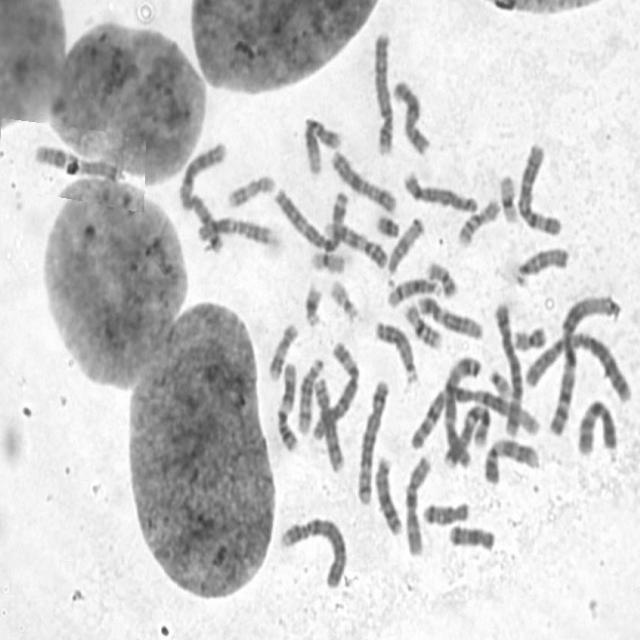A1: (548, 293, 622, 437), (409, 384, 542, 453)
A2: (524, 332, 632, 405), (179, 140, 226, 256)
A3: (273, 186, 349, 255), (441, 356, 482, 469)
B4: (280, 517, 348, 590), (374, 30, 395, 159)
B5: (356, 379, 390, 506), (493, 304, 523, 438)
C10: (404, 455, 433, 557), (577, 397, 619, 455)
C11: (194, 216, 273, 248), (275, 361, 298, 453)
C12: (417, 294, 485, 344), (300, 116, 342, 175)
C6: (310, 340, 360, 443), (517, 141, 564, 237)
C7: (32, 144, 128, 187), (444, 404, 491, 468)
C8: (312, 375, 347, 474), (401, 170, 478, 212)
C9: (322, 218, 389, 270), (482, 437, 541, 487)
D13: (374, 318, 421, 386), (374, 456, 404, 538)
D14: (296, 358, 324, 436), (385, 277, 442, 308)
D15: (386, 216, 425, 277), (516, 245, 570, 286)
E16: (456, 197, 501, 249), (405, 300, 444, 351)
E17: (264, 323, 300, 384), (227, 176, 276, 208)
E18: (448, 524, 497, 552), (423, 499, 470, 527)
F19: (499, 173, 520, 226), (309, 251, 347, 276)
F20: (426, 260, 458, 298), (514, 324, 549, 352)
G21: (303, 282, 325, 328), (376, 213, 402, 240)
G22: (330, 278, 361, 325), (488, 368, 514, 400)
X: (330, 150, 399, 214), (394, 79, 436, 158)
